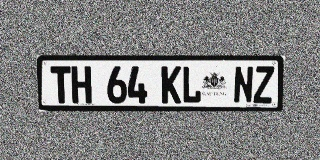4: (127, 66, 147, 103)
6: (107, 66, 127, 103)
H: (71, 66, 92, 103)
K: (161, 66, 181, 103)
L: (182, 66, 202, 103)
N: (233, 66, 254, 103)
T: (50, 66, 71, 103)
Z: (253, 66, 274, 103)
